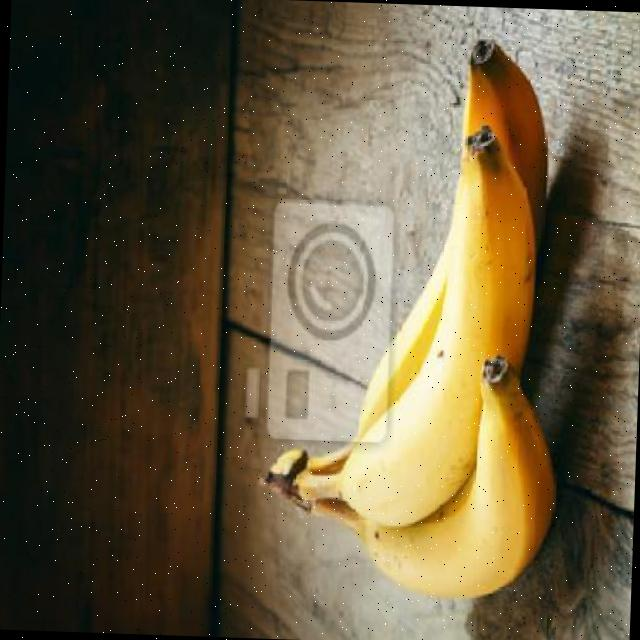banana: (297, 199, 484, 528), (372, 360, 523, 594)
